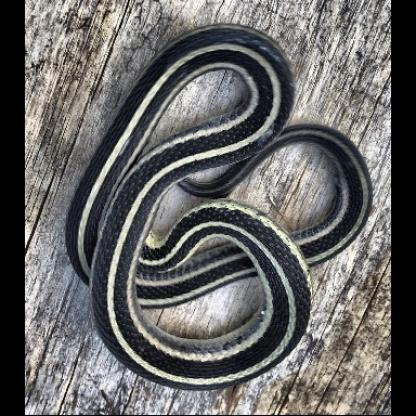Snake: (61, 23, 369, 391)
